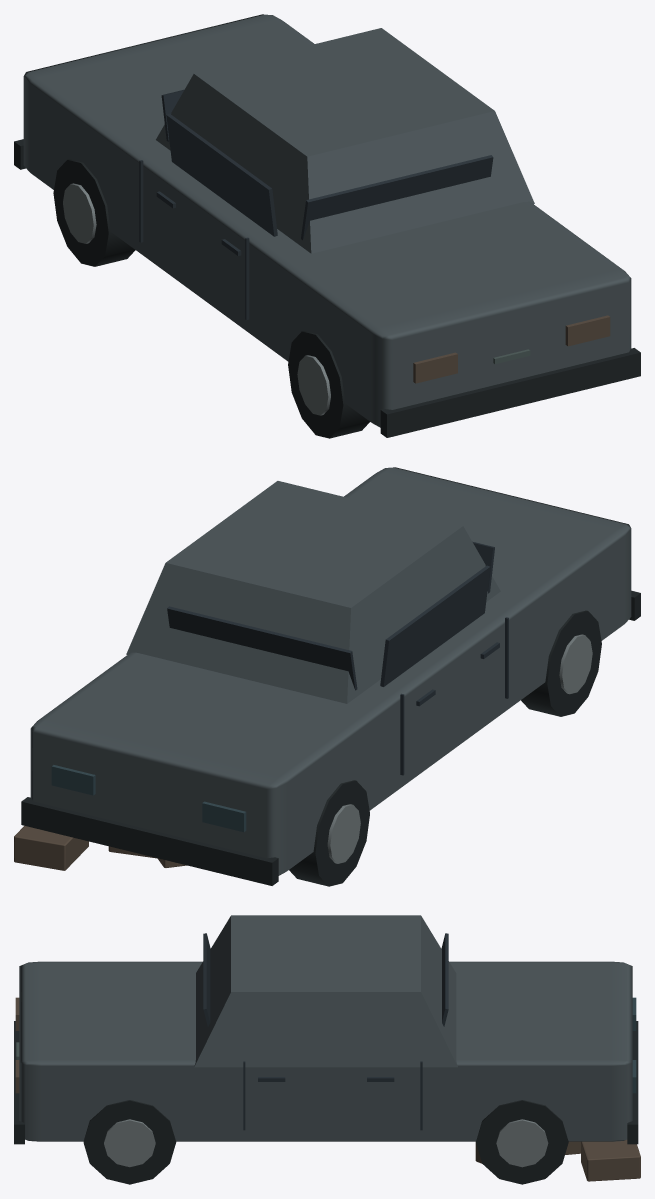
Rendered from sedan-wreck-3.glb.
3 renders of one model, top to bottom at view 1: azimuth 30°, elevation 25°; view 2: azimuth 150°, elevation 25°; view 3: azimuth 270°, elevation 25°, orthographic. The views are drawn at different scales.
Parts seen in each view (by area): view 1: sedan-wreck/2/KR-230-3; view 2: sedan-wreck/2/KR-230-3; view 3: sedan-wreck/2/KR-230-3.
Part boxes in pixels (x1=…): sedan-wreck/2/KR-230-3: x1=14, y1=14, x2=640, y2=438; sedan-wreck/2/KR-230-3: x1=14, y1=467, x2=640, y2=886; sedan-wreck/2/KR-230-3: x1=14, y1=915, x2=640, y2=1184.
Size of the model in its own units: 1.93 by 1.5 by 4.6.
